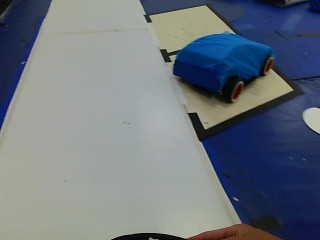car: (160, 29, 284, 108)
